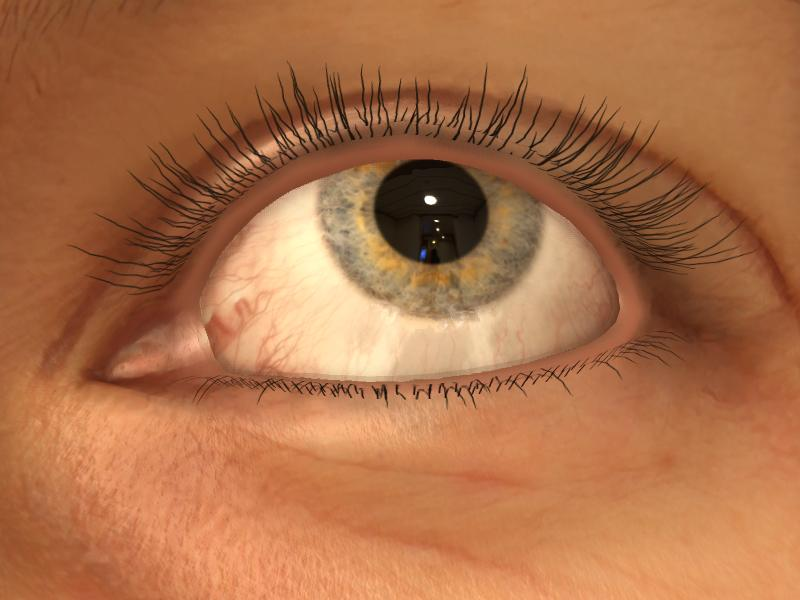eye: (318, 160, 539, 320)
